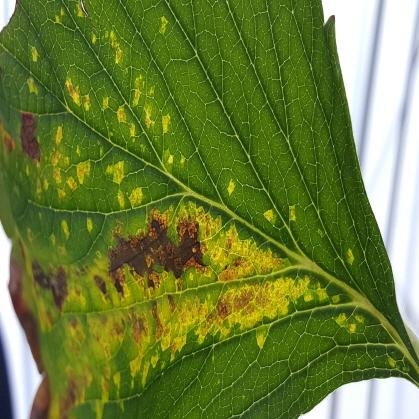Angular Leafspot: (0, 0, 417, 418)
